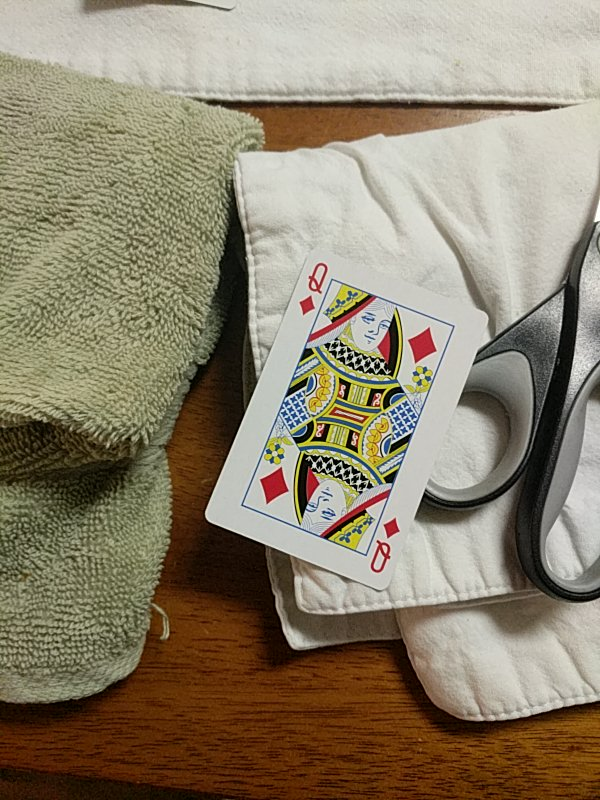Diamonds: (205, 246, 487, 594)
